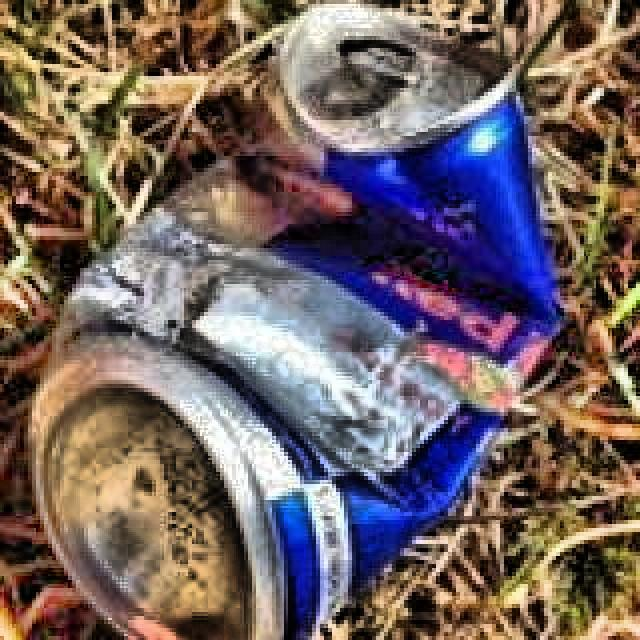metal: (24, 0, 568, 640)
